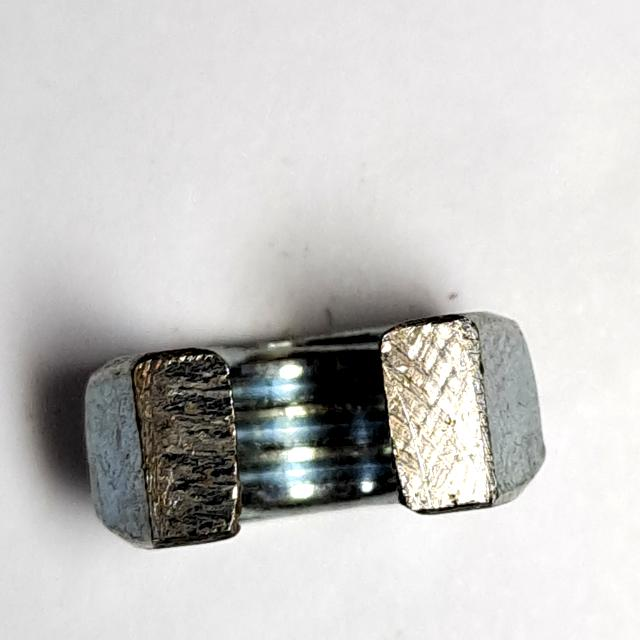Side-Fracture: (70, 301, 559, 568)
